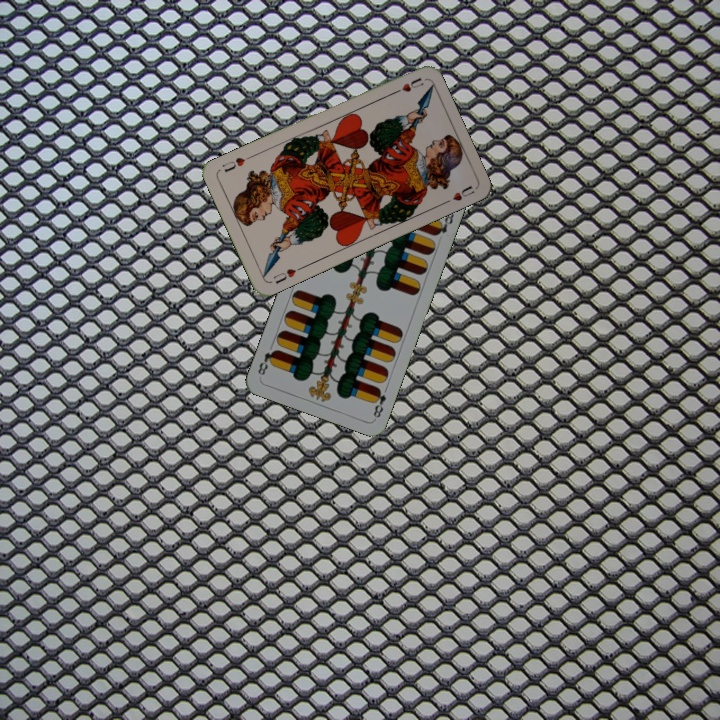E8: (369, 383, 389, 420)
HU: (388, 74, 426, 97), (269, 263, 305, 287)
